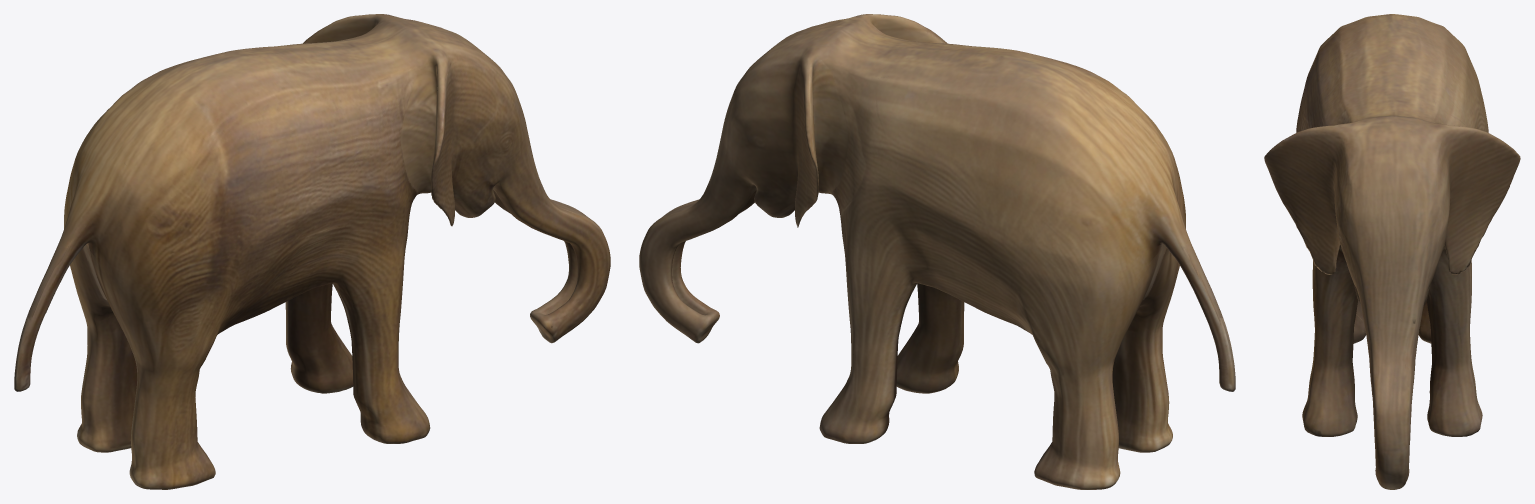
The model's file is Elephant_wood_Sculptu_1022212702.fbx.
The picture shows the model from 3 angles, left to right: view 1: azimuth 30°, elevation 25°; view 2: azimuth 150°, elevation 25°; view 3: azimuth 270°, elevation 25°; orthographic projection. The views are drawn at different scales.
Visible parts, largest first — view 1: Mesh_0; view 2: Mesh_0; view 3: Mesh_0.
Boxes of the visible parts, <box> form: Mesh_0: <box>14,14,610,489</box>; Mesh_0: <box>639,14,1235,489</box>; Mesh_0: <box>1264,14,1520,489</box>.
Bounding box in the file's own units: 200 × 123 × 83.81.
1 material, 1 textured.
